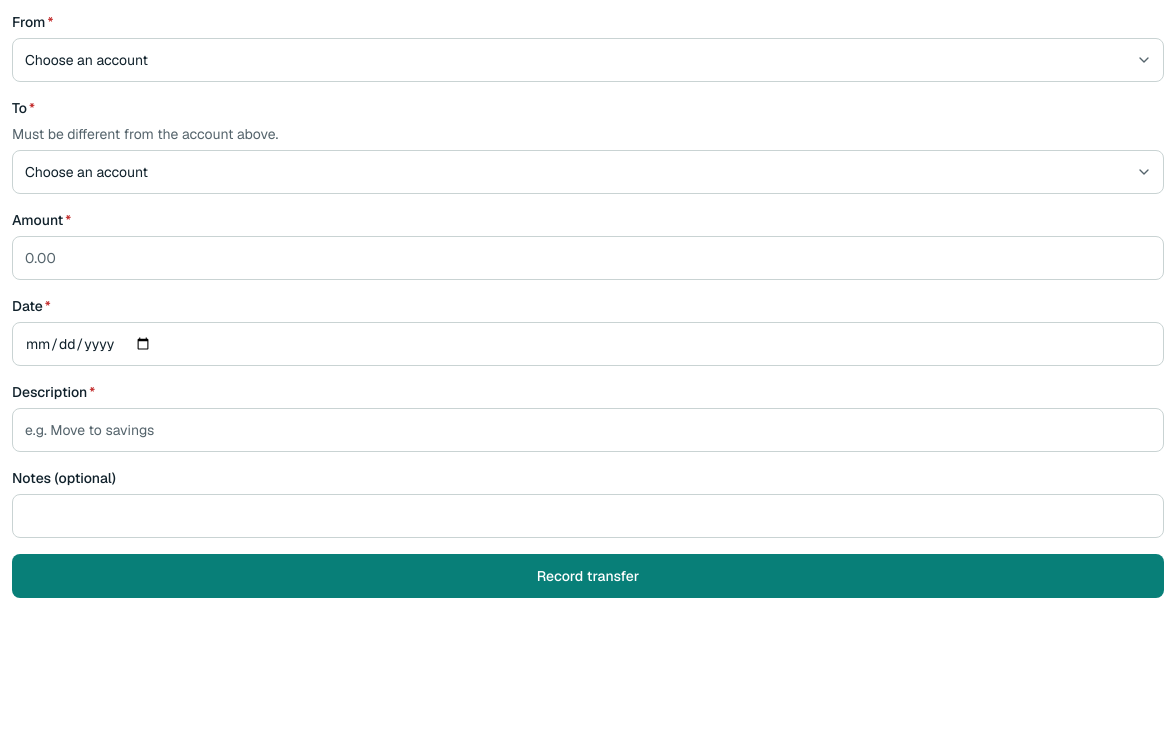
Test: TransferTransactionForm › shows a same-account field error returned by the Server Action
Click the button "Record transfer".
click(588, 576)  # box [12,554,1164,598]
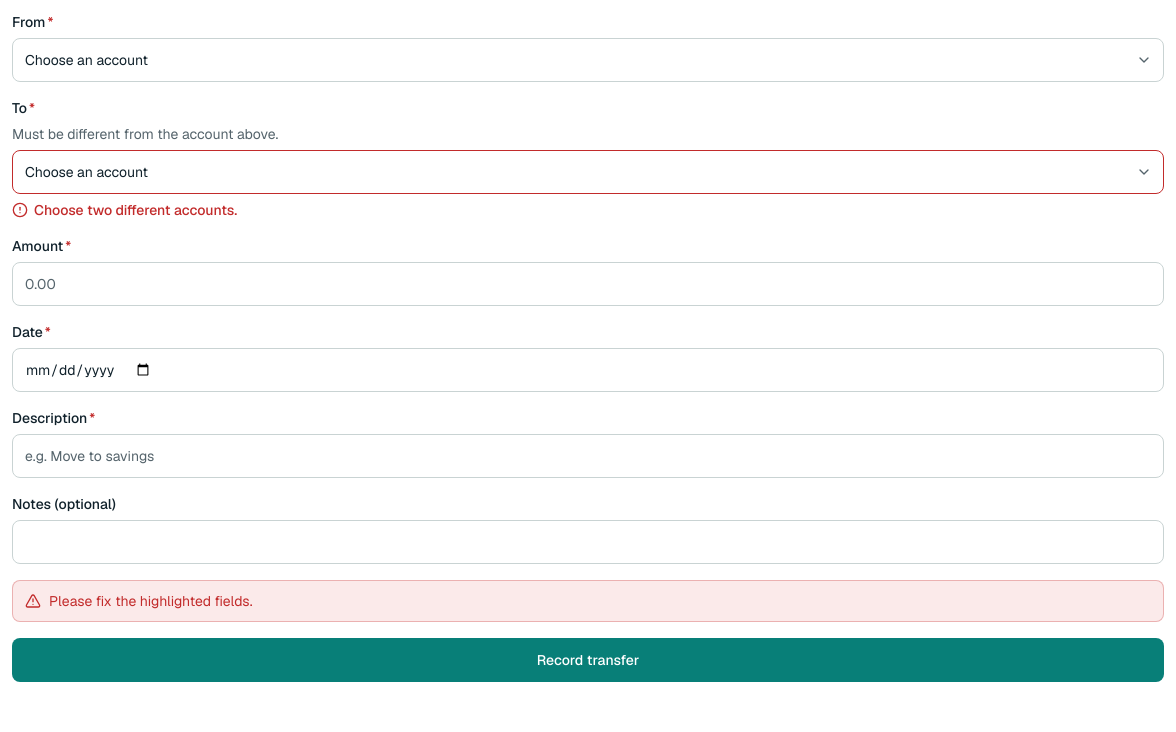
Expected: the text "Choose two different accounts." is shown, [12,201,237,219]
